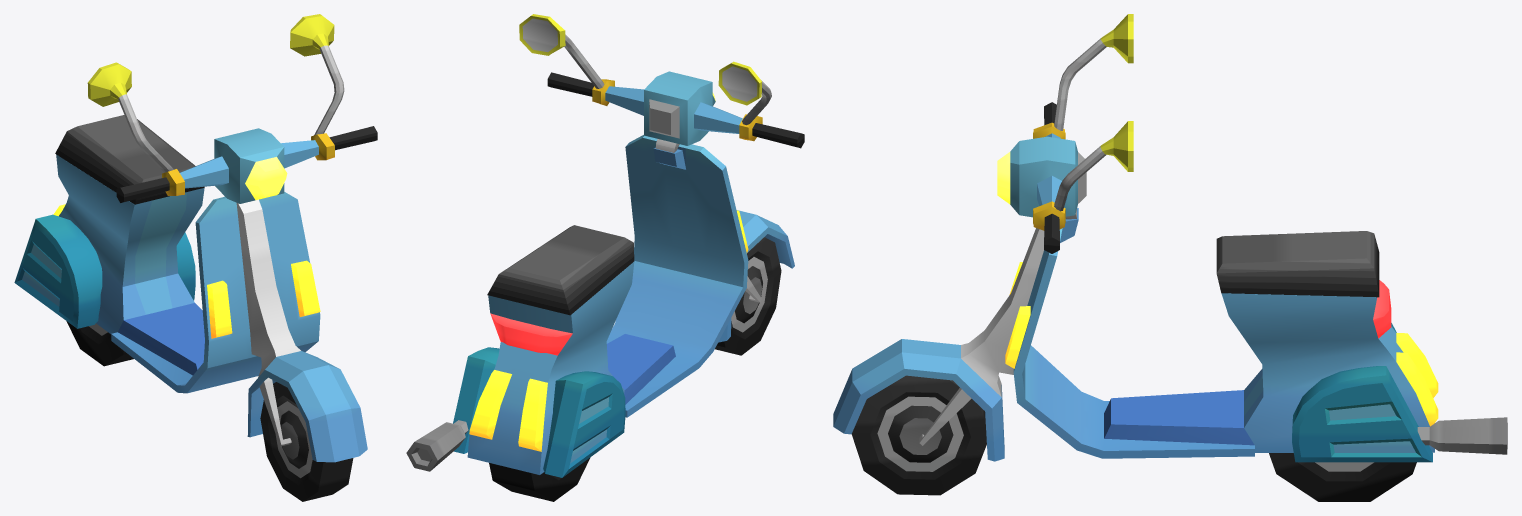
File: motosiklet.glb
The picture shows the model from 3 angles, left to right: view 1: azimuth 30°, elevation 25°; view 2: azimuth 150°, elevation 25°; view 3: azimuth 270°, elevation 25°; orthographic projection. The views are drawn at different scales.
Visible parts, largest first — view 1: Bike; view 2: Bike; view 3: Bike.
Part boxes in pixels (bbox=[...]): Bike: bbox=[14, 14, 377, 501]; Bike: bbox=[406, 14, 804, 501]; Bike: bbox=[833, 14, 1507, 501].
Size of the model in its own units: 5.16 by 7.46 by 10.88.
1 material, 1 textured.
